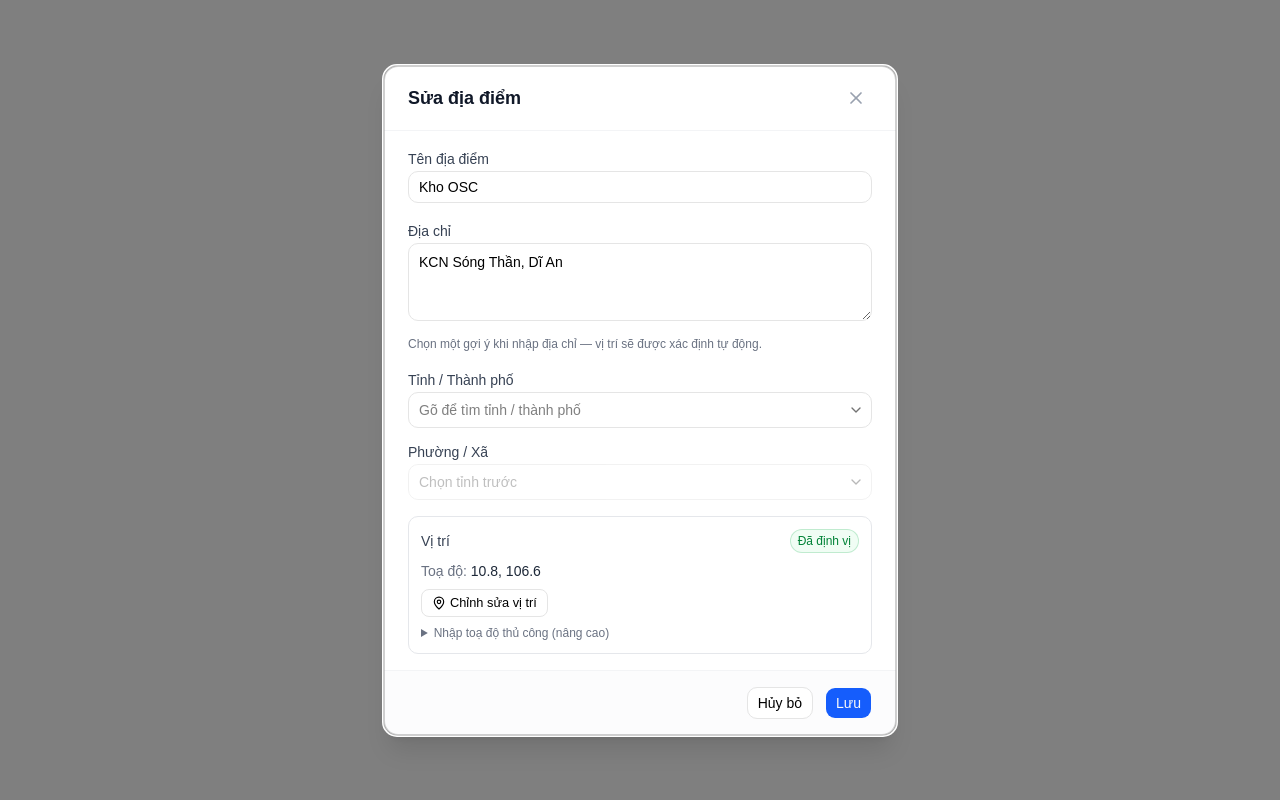
Test: coordinates that no longer describe the address › ★ warns when the address is rewritten under an existing pair
Expected: the text "Đã định vị" is shown, x1=790 y1=528 x2=859 y2=552
Replace the text in the text box labelled "Địa chỉ" with "Một nơi hoàn toàn khác, Long An": (640, 282) x1=408 y1=242 x2=872 y2=320
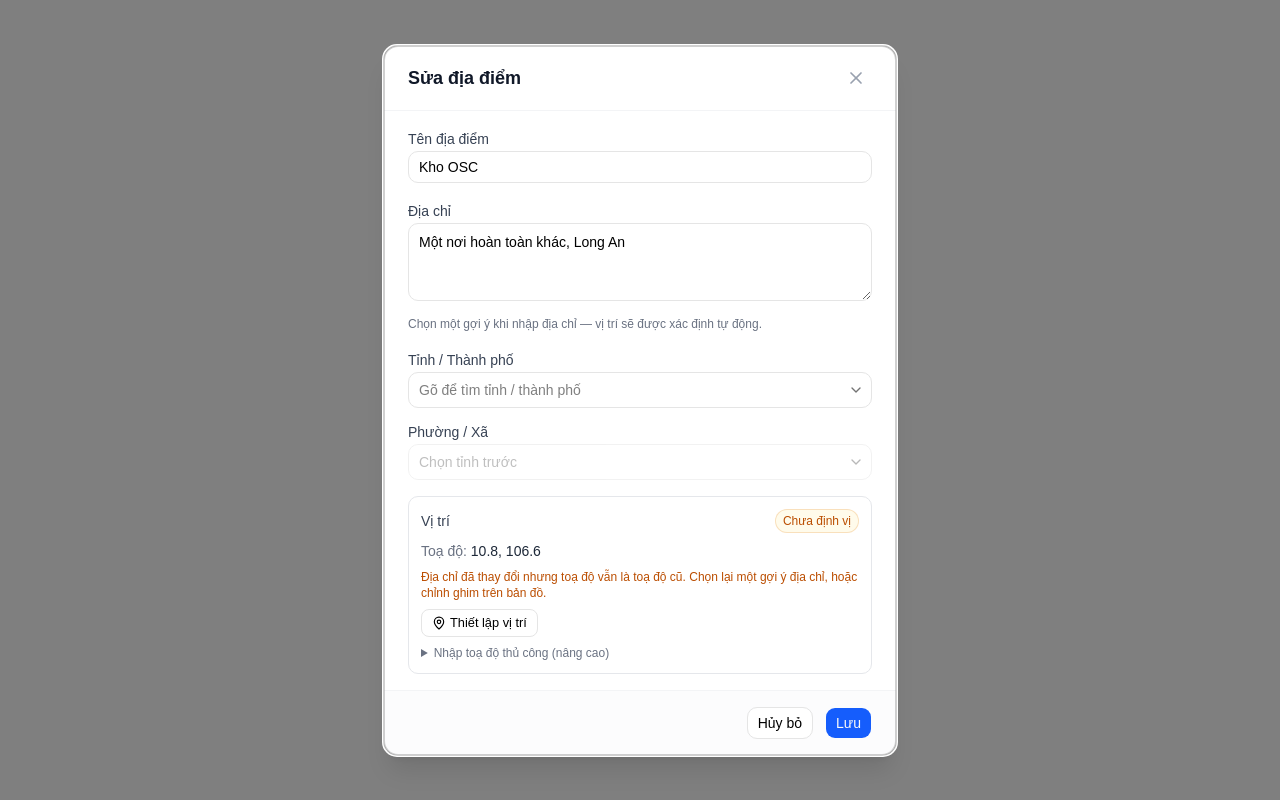
Expected: the text "Địa chỉ đã thay đổi" is shown, x1=421 y1=570 x2=857 y2=600
Expected: the text "Chưa định vị" is shown, x1=775 y1=508 x2=859 y2=532
